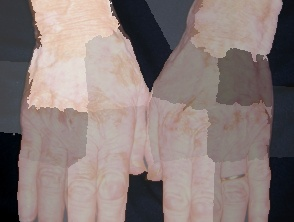vitiligo: (14, 0, 153, 222), (148, 0, 287, 222)
